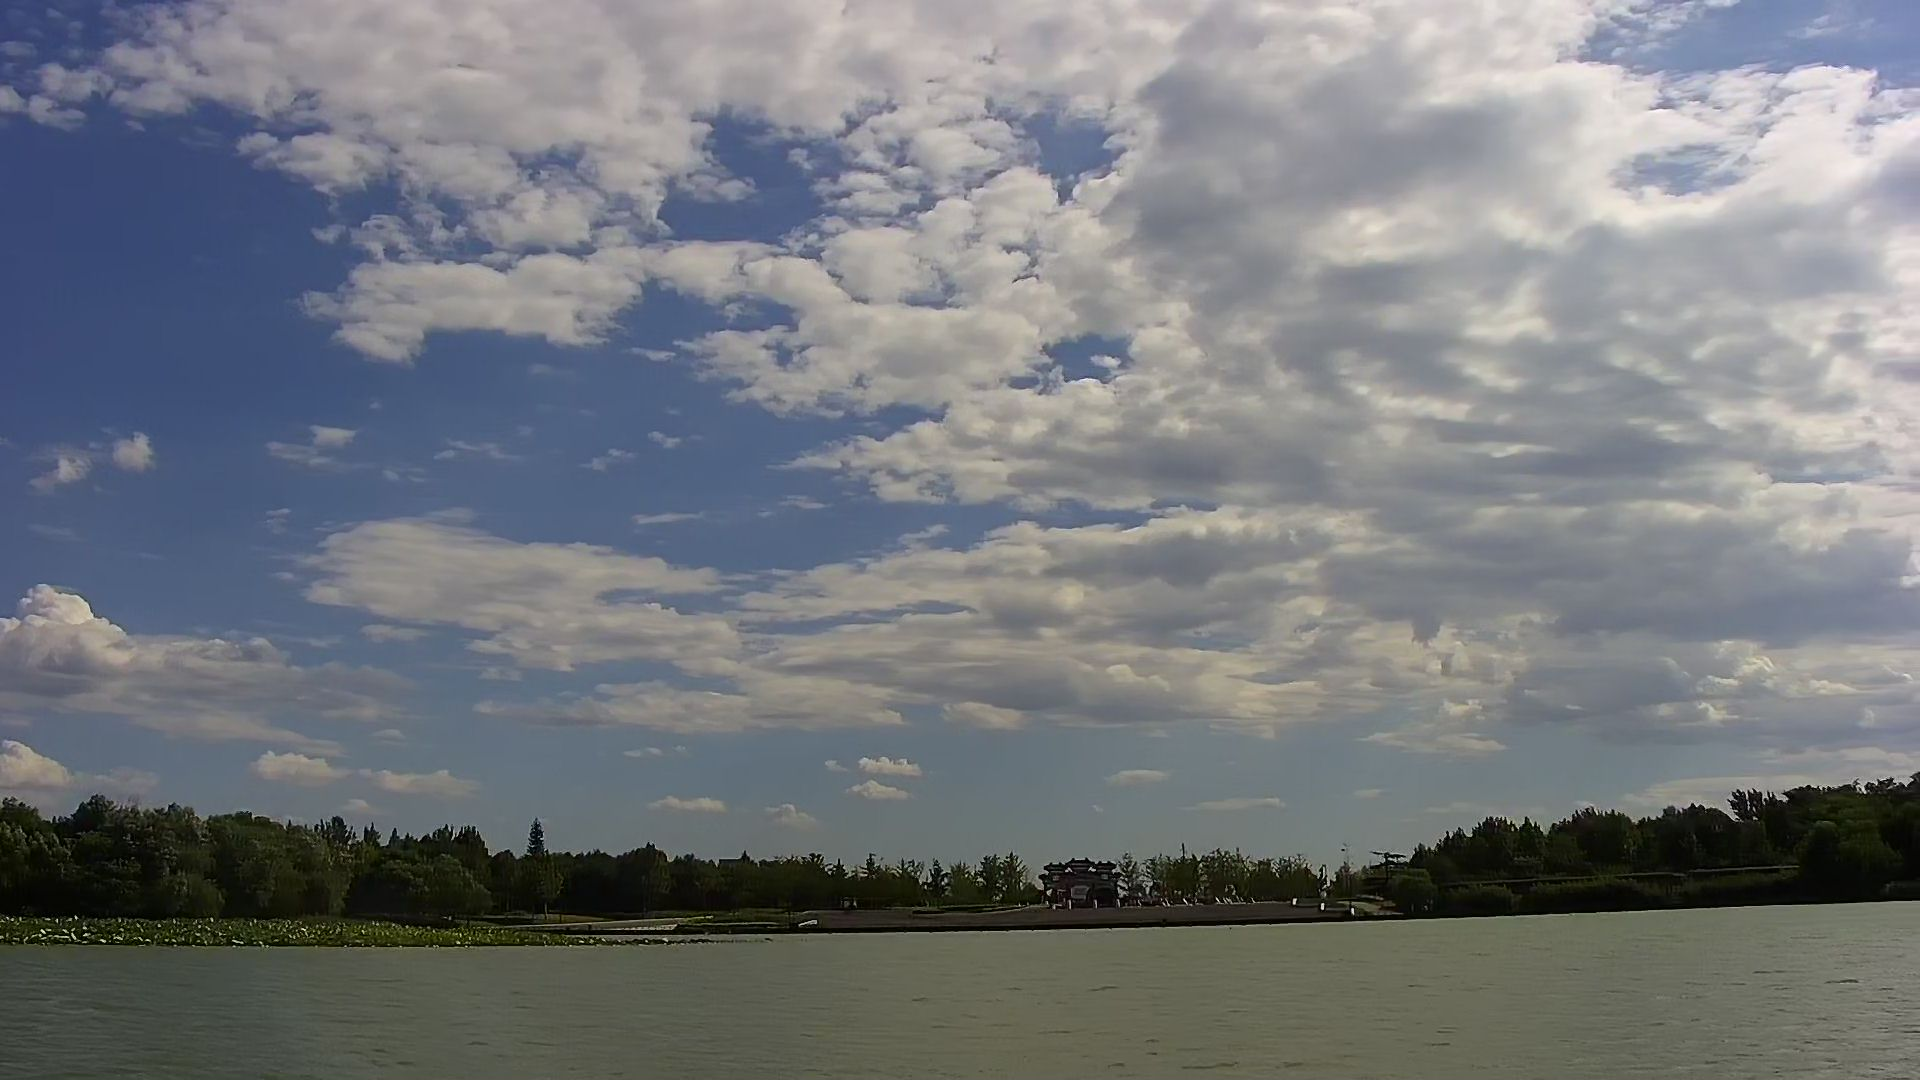harbor: (754, 899, 1414, 935)
